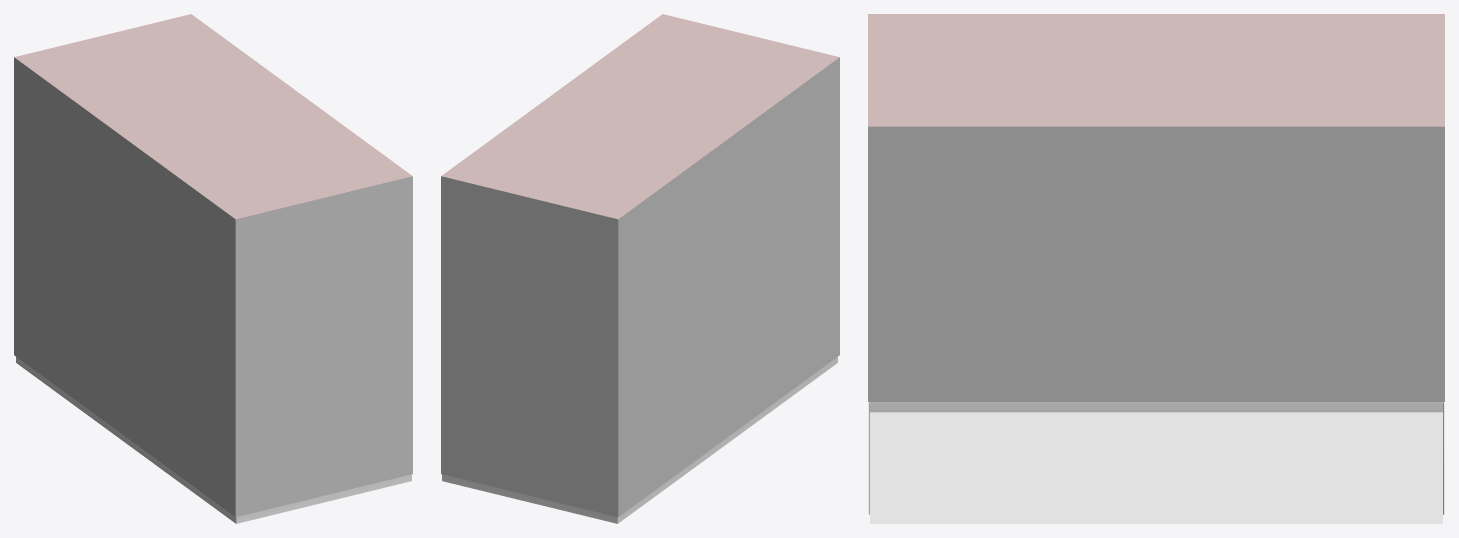
File: TR_SectionB_01.fbx
The picture shows the model from 3 angles, left to right: view 1: azimuth 30°, elevation 25°; view 2: azimuth 150°, elevation 25°; view 3: azimuth 270°, elevation 25°; orthographic projection. The views are drawn at different scales.
Visible parts, largest first — view 1: TR_SectionB_01_LOD0; view 2: TR_SectionB_01_LOD0; view 3: TR_SectionB_01_LOD0.
Boxes of the visible parts, x1,y1,x2,y2 form: TR_SectionB_01_LOD0: [14, 14, 412, 523]; TR_SectionB_01_LOD0: [441, 14, 839, 523]; TR_SectionB_01_LOD0: [868, 14, 1444, 523].
Size of the model in its own units: 300 by 494 by 650.
